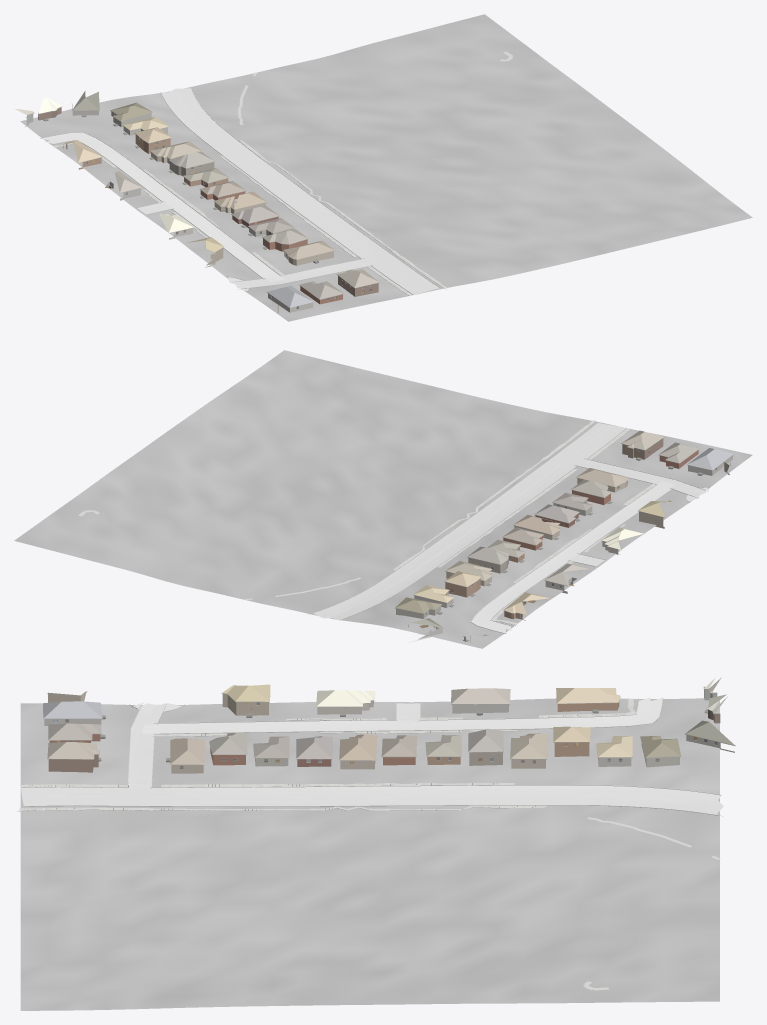
3 views of the same model, one above another, from view 1: azimuth 30°, elevation 25°; view 2: azimuth 150°, elevation 25°; view 3: azimuth 270°, elevation 25° (orthographic). The views are drawn at different scales.
Visible parts, largest first — view 1: ground, roof, asphalt, concrete, wall, walk, curb, wall_stucco, detail, wall_stone; view 2: ground, roof, asphalt, concrete, wall, walk, curb, detail, wall_stucco, wall_stone; view 3: ground, roof, asphalt, concrete, walk, wall, curb, wall_stucco, detail, wall_stone, mark_w.
Boxes of the visible parts, x1,y1,x2,y2 form: ground: (20, 14, 752, 321); roof: (14, 91, 379, 307); asphalt: (161, 88, 439, 294); concrete: (41, 132, 377, 290); wall: (38, 107, 378, 304); walk: (53, 51, 512, 295); curb: (40, 86, 442, 295); wall_stucco: (25, 111, 333, 313); detail: (25, 106, 379, 309); wall_stone: (72, 104, 313, 312); ground: (14, 350, 752, 648); roof: (395, 430, 733, 636); asphalt: (313, 423, 625, 619); concrete: (471, 458, 708, 633); wall: (445, 438, 698, 642); walk: (78, 420, 656, 624); curb: (309, 421, 709, 633); detail: (395, 437, 733, 641); wall_stucco: (396, 462, 729, 618); wall_stone: (412, 455, 732, 641); ground: (20, 698, 719, 1010); roof: (43, 677, 734, 764); asphalt: (21, 785, 723, 814); concrete: (128, 697, 662, 793); walk: (19, 698, 720, 990); wall: (48, 694, 720, 772); curb: (17, 697, 722, 816); wall_stucco: (48, 686, 717, 773); detail: (43, 687, 735, 769); wall_stone: (44, 704, 734, 766); mark_w: (24, 717, 720, 814).
Bounding box in the file's own units: 255 × 15.16 × 264.
